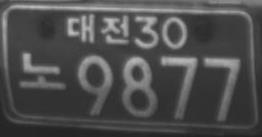0: (159, 15, 188, 51)
3: (132, 14, 160, 50)
7: (202, 55, 242, 123), (159, 54, 199, 121)
8: (120, 55, 159, 119)
9: (75, 53, 116, 117)
노: (17, 50, 68, 92)
대전_O: (65, 12, 131, 46)
